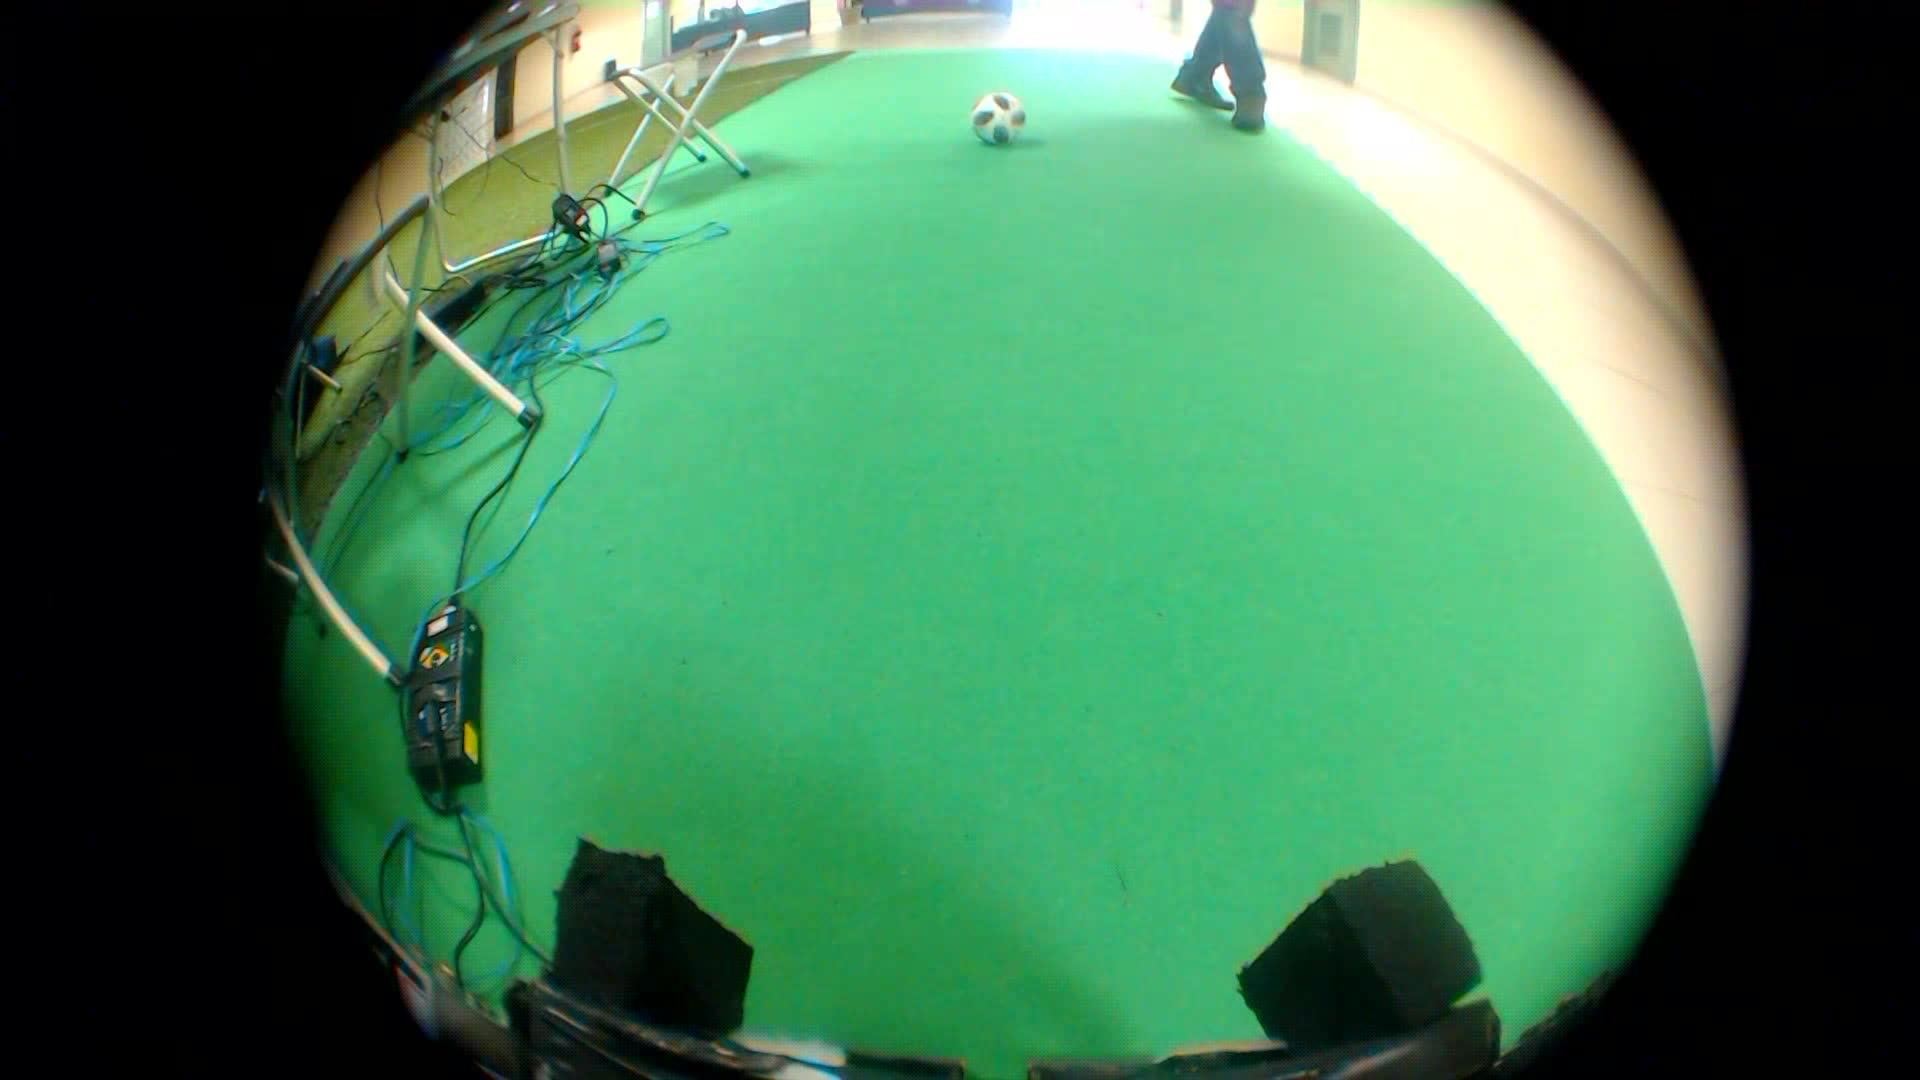ball: (963, 80, 1031, 148)
